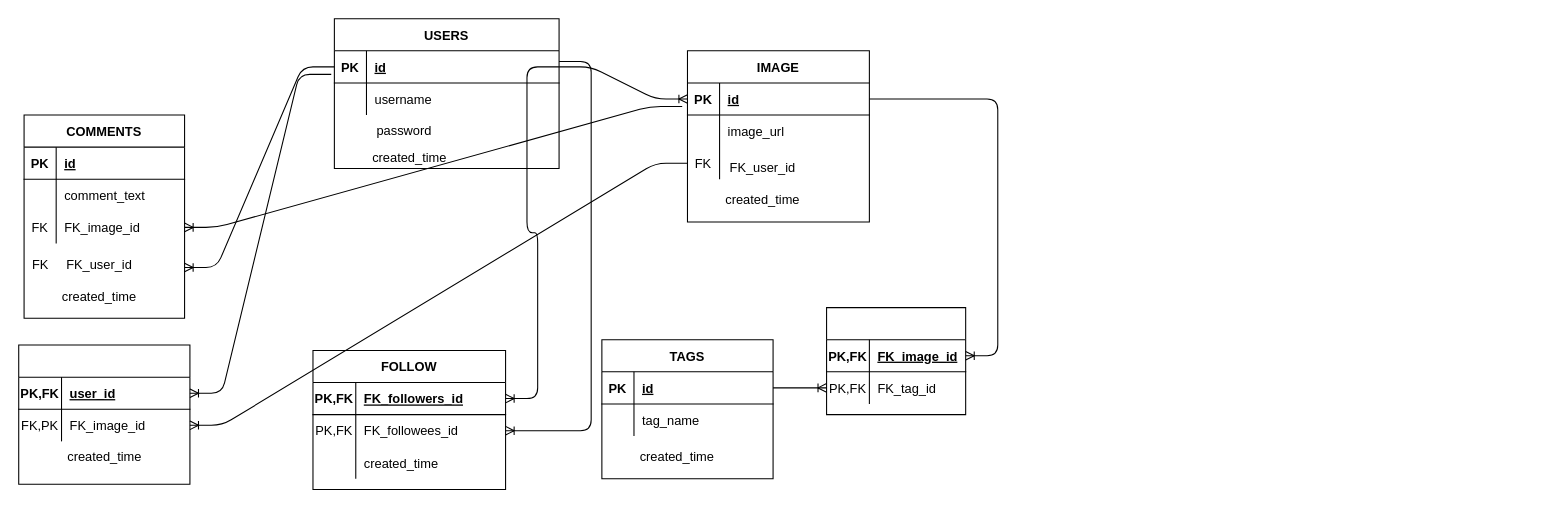
Some shapes in this 1562 by 508 pixel diagram are drawn without their labels. Each missing label, with the box of its shape:
IMAGETAGS: (826, 307, 966, 415)
LIKES: (18, 344, 190, 484)
